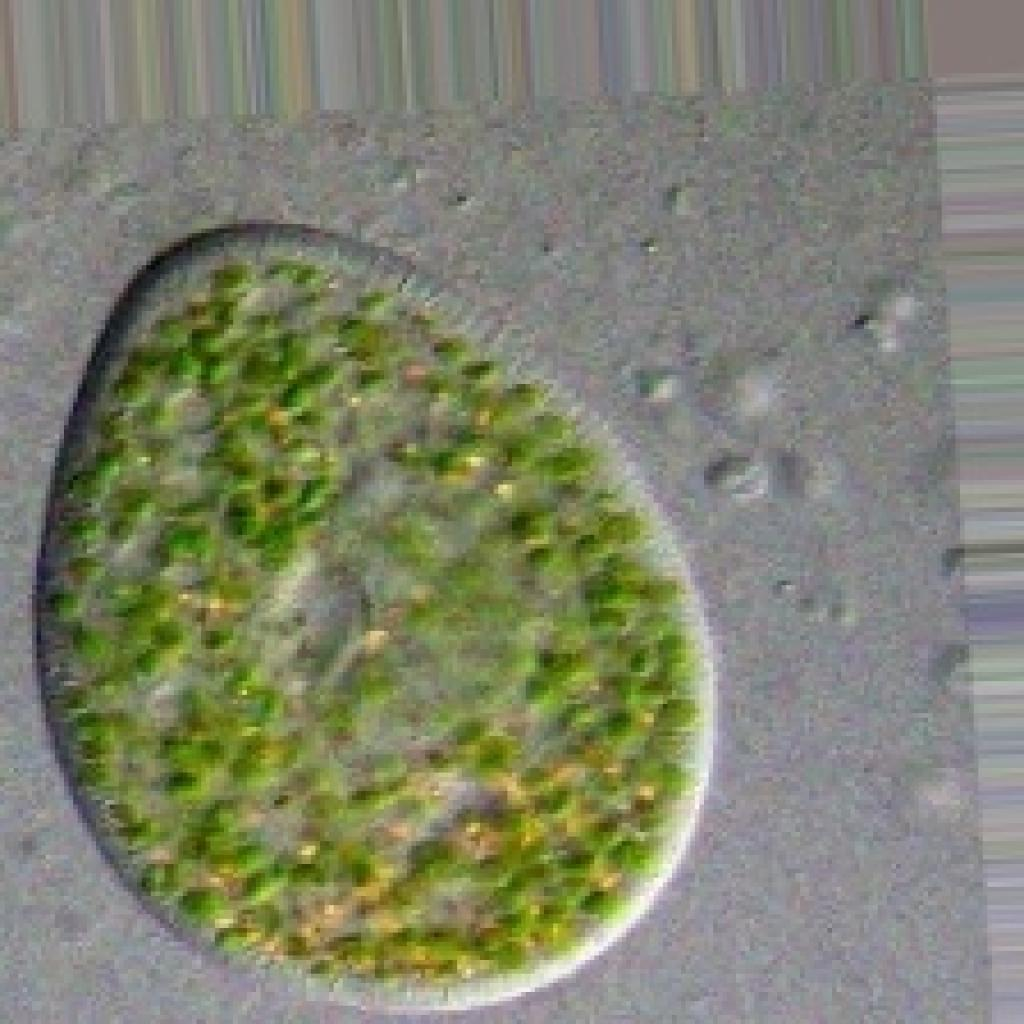Amoeba: (41, 238, 713, 996)
